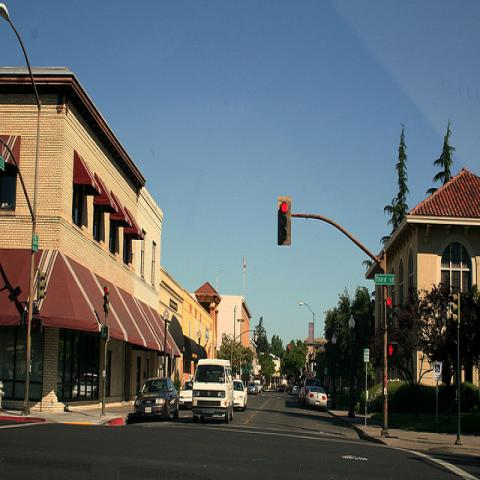car: (190, 358, 234, 426), (134, 377, 180, 422), (304, 376, 323, 408), (232, 380, 248, 412), (306, 387, 327, 411), (179, 379, 194, 410), (250, 380, 265, 394), (292, 386, 300, 396)
truck: (192, 359, 234, 422)
